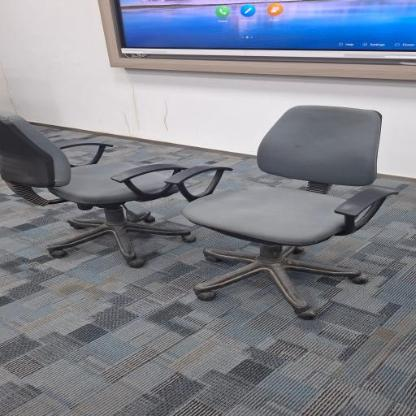chair: (168, 95, 404, 327), (0, 102, 197, 265)
